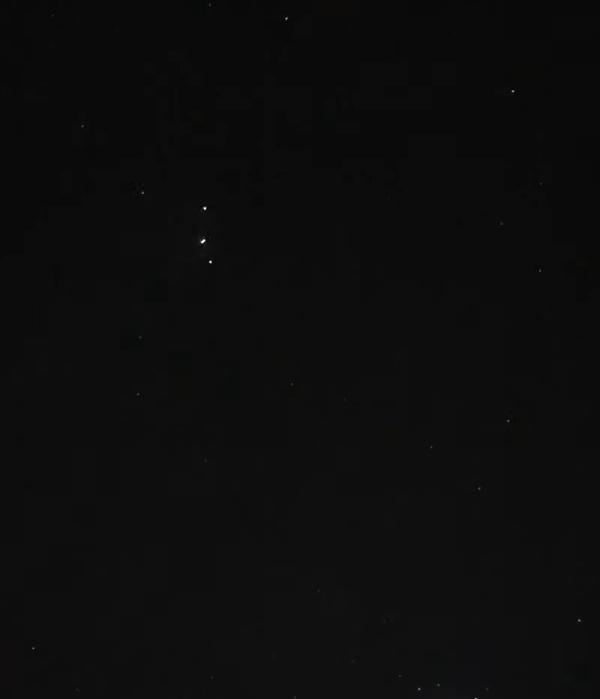Plane: (191, 187, 219, 277)
